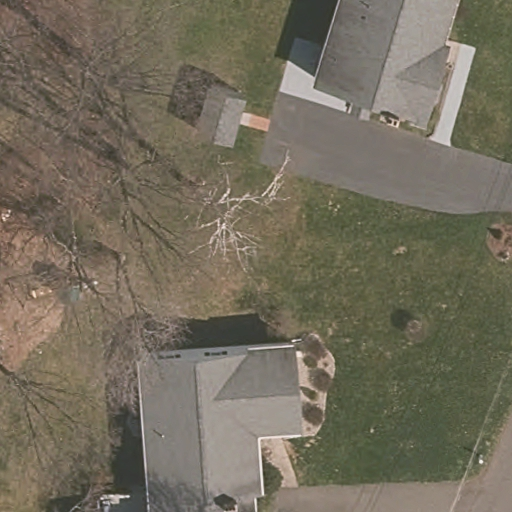DT: (459, 438, 495, 476)
